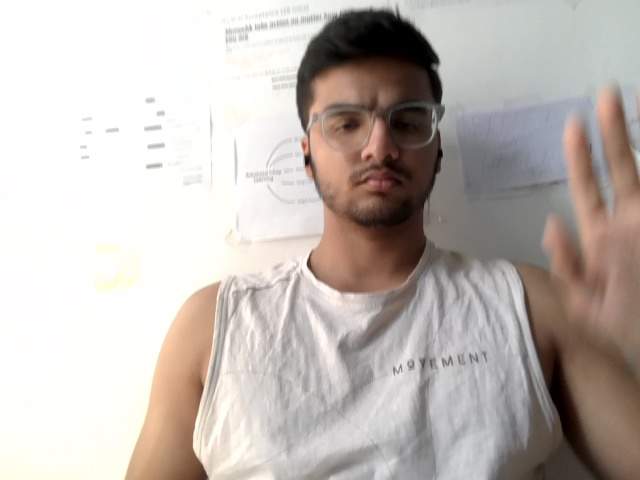Hello: (521, 69, 640, 350)
